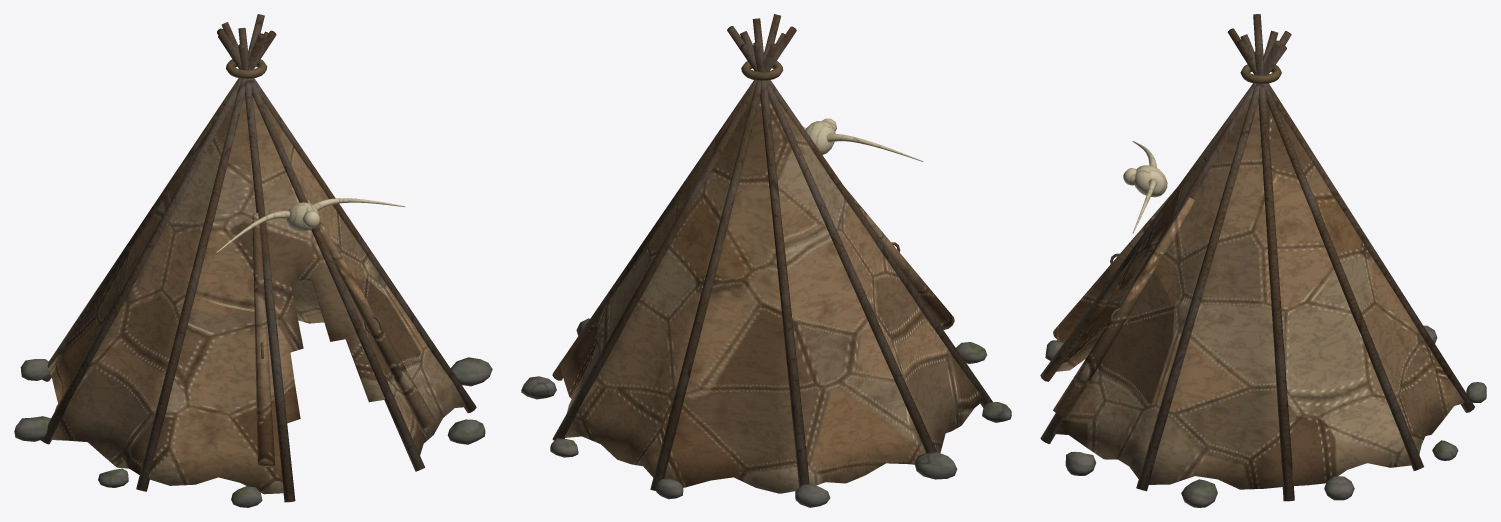
The model's file is tent.glb.
The picture shows the model from 3 angles, left to right: view 1: azimuth 30°, elevation 25°; view 2: azimuth 150°, elevation 25°; view 3: azimuth 270°, elevation 25°; orthographic projection. The views are drawn at different scales.
Parts seen in each view (by area): view 1: tent; view 2: tent; view 3: tent.
Boxes of the visible parts, <box> form: tent: <box>14,14,492,507</box>; tent: <box>521,14,1011,507</box>; tent: <box>1040,14,1486,507</box>.
Bounding box in the file's own units: 3.86 × 3.38 × 3.54.
Materials: 1 (1 with a texture image).
